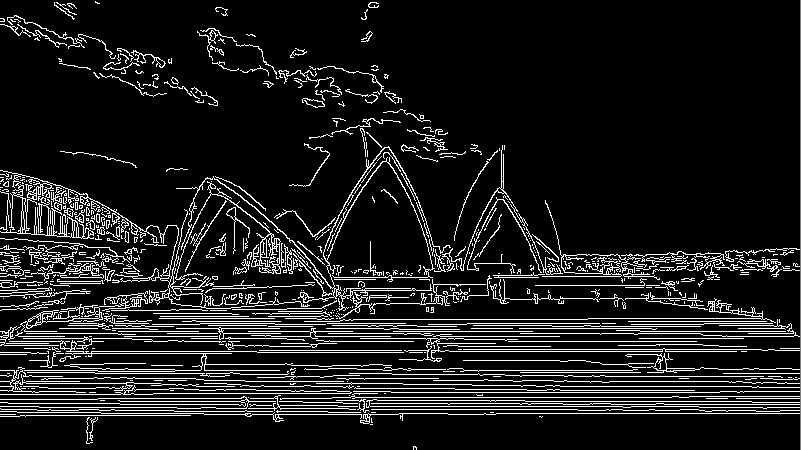opera house: (144, 103, 581, 283)
